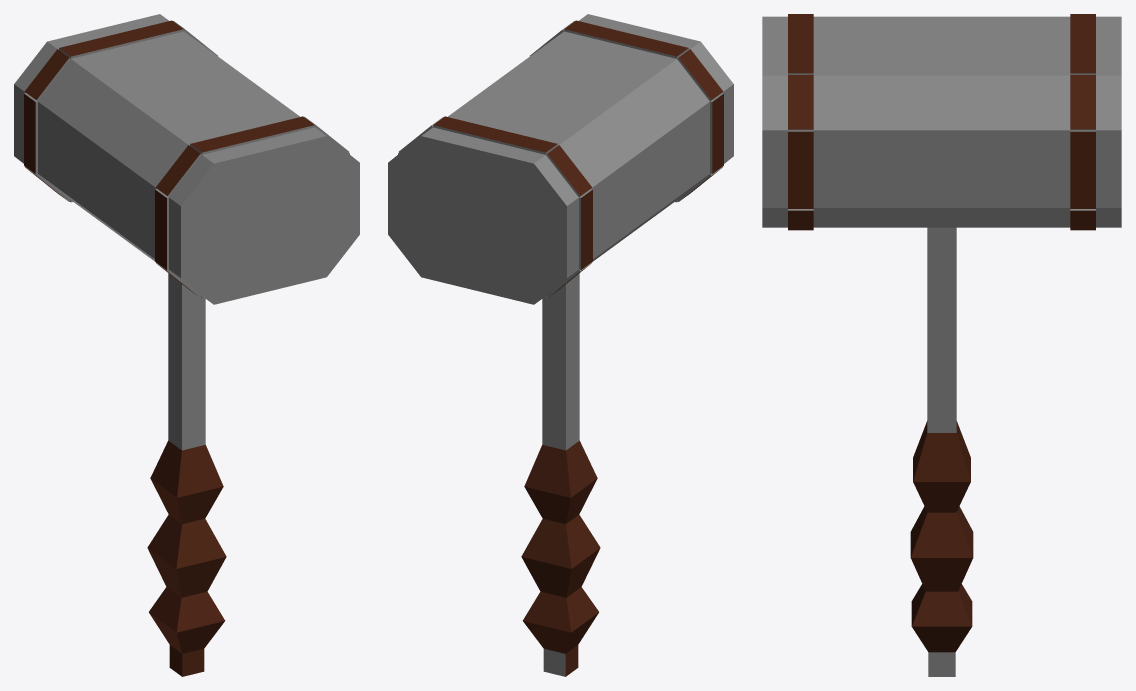
Rendered from hammer 1.fbx.
3 renders of one model, left to right at view 1: azimuth 30°, elevation 25°; view 2: azimuth 150°, elevation 25°; view 3: azimuth 270°, elevation 25°, orthographic. The views are drawn at different scales.
Parts seen in each view (by area): view 1: Cube; view 2: Cube; view 3: Cube.
Part boxes in pixels (left/top/right/bottom): Cube: left=14, top=14, right=359, bottom=676; Cube: left=388, top=14, right=733, bottom=676; Cube: left=762, top=14, right=1121, bottom=676.
Bounding box in the file's own units: 1665 × 5063 × 2625.
